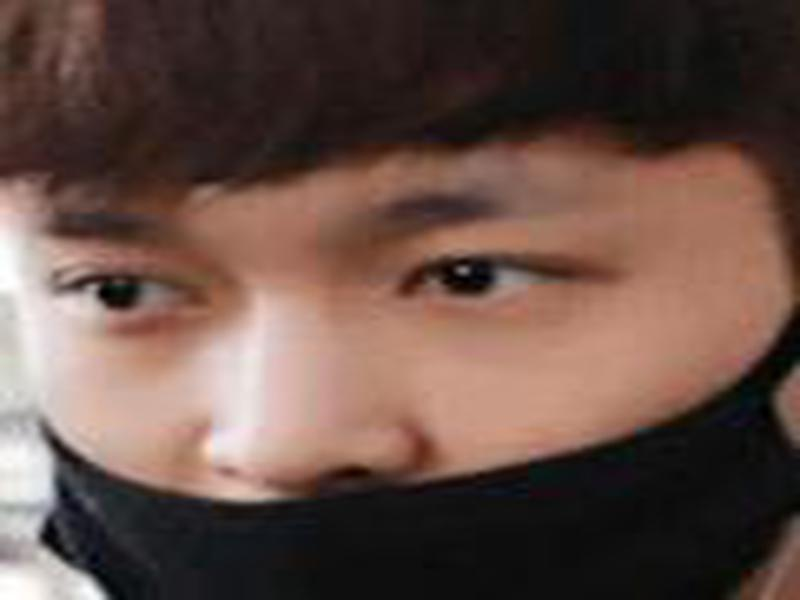with_mask: (1, 121, 794, 598)
